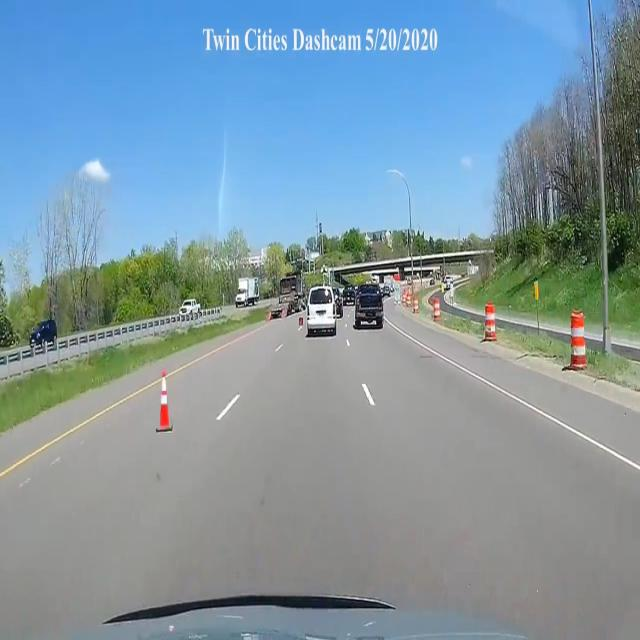Traffic Cone: (154, 372, 174, 435)
